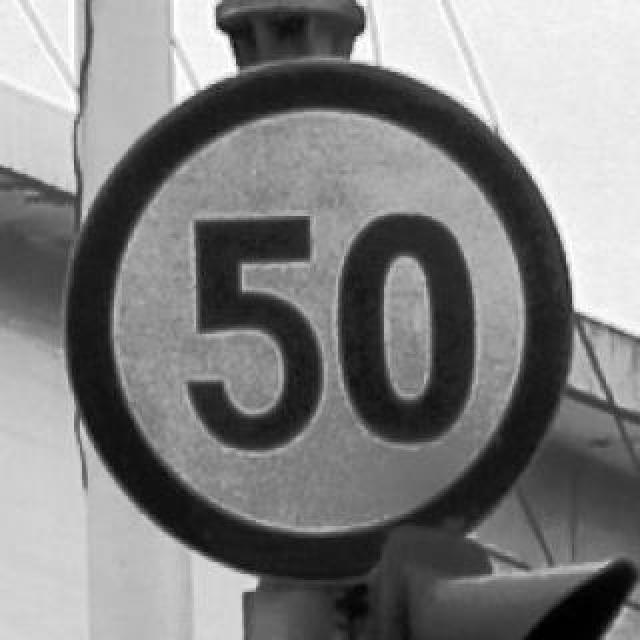50 kph: (64, 54, 572, 580)
